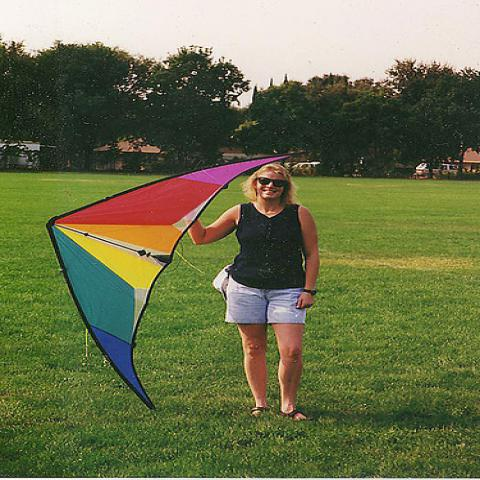car: (416, 163, 458, 173), (292, 162, 321, 167)
